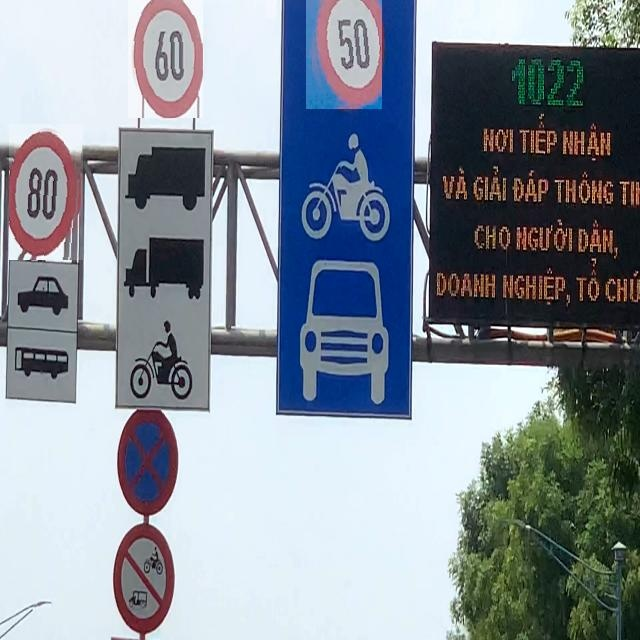bien_cam: (9, 124, 83, 260), (128, 0, 203, 118), (306, 0, 382, 109)
